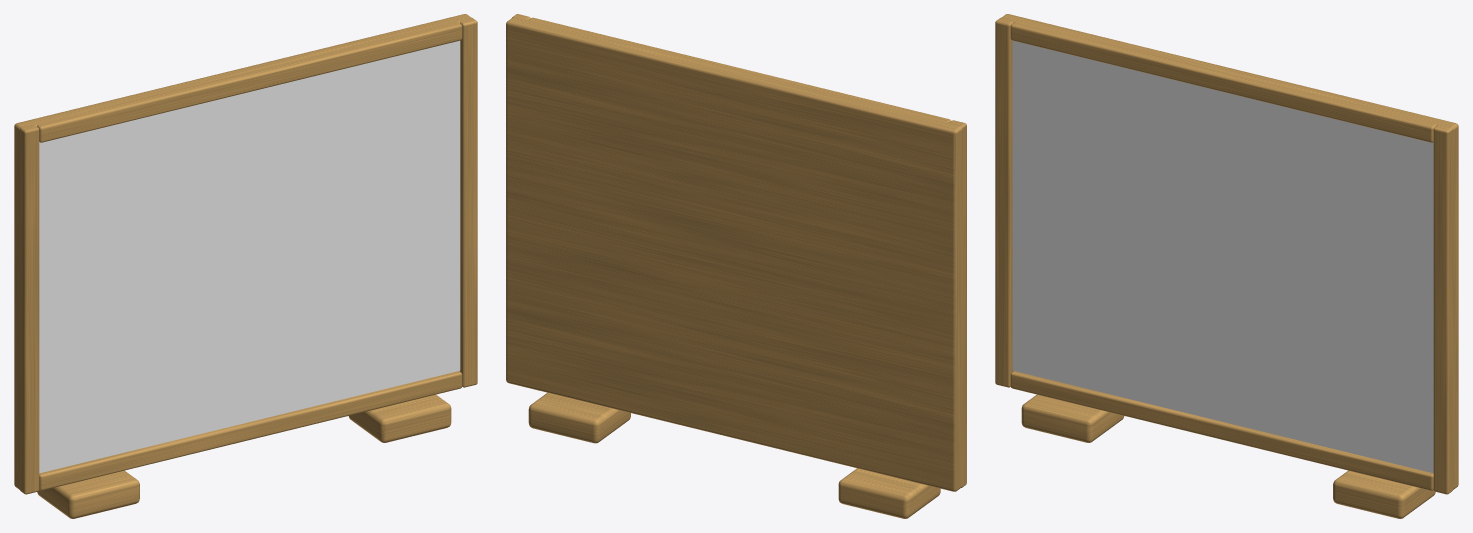
The model's file is preview.glb.
3 views of the same model, side by side, from view 1: azimuth 30°, elevation 25°; view 2: azimuth 150°, elevation 25°; view 3: azimuth 330°, elevation 25° (orthographic).
Parts seen in each view (by area): view 1: BrassGallery; view 2: BrassGallery; view 3: BrassGallery.
Boxes of the visible parts, <box> form: BrassGallery: <box>14,14,477,518</box>; BrassGallery: <box>506,14,966,518</box>; BrassGallery: <box>995,14,1458,518</box>.
Size of the model in its own units: 0.236 by 0.1945 by 0.032.
2 materials, 1 textured.
